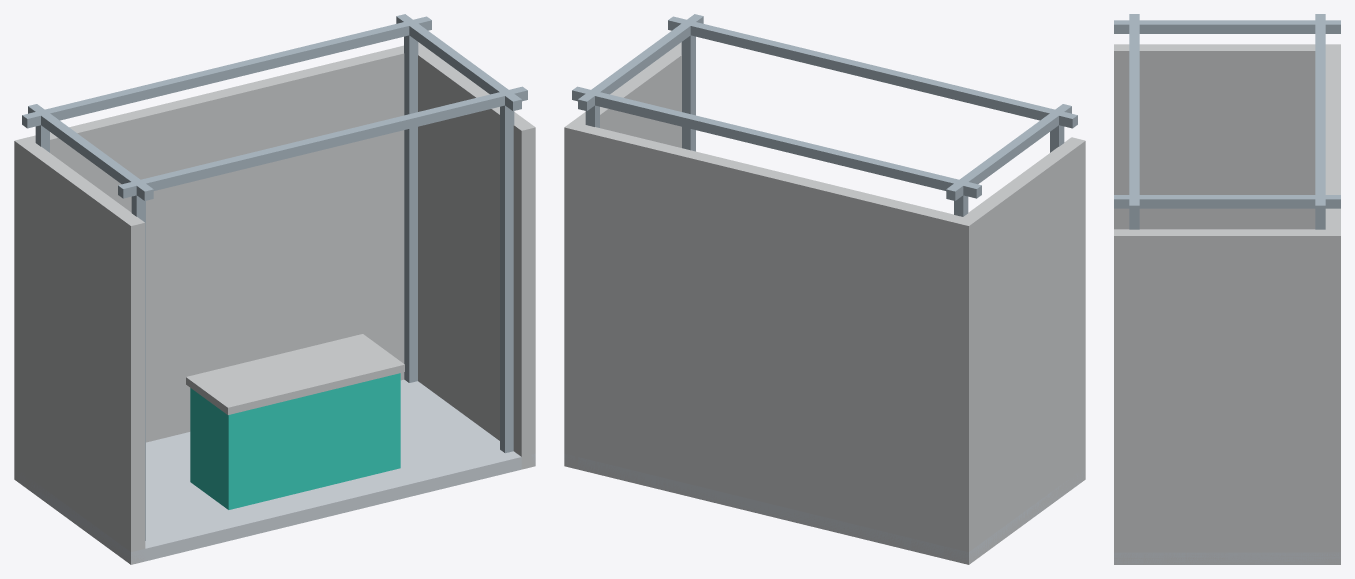
3 renders of one model, left to right at view 1: azimuth 30°, elevation 25°; view 2: azimuth 150°, elevation 25°; view 3: azimuth 270°, elevation 25°, orthographic. The views are drawn at different scales.
Visible parts, largest first — view 1: Exhibition Booth Concept; view 2: Exhibition Booth Concept; view 3: Exhibition Booth Concept.
Part boxes in pixels (<box>): Exhibition Booth Concept: <box>14,14,535,564</box>; Exhibition Booth Concept: <box>564,14,1085,564</box>; Exhibition Booth Concept: <box>1114,14,1340,564</box>.
Bounding box in the file's own units: 4 × 3.49 × 2.
